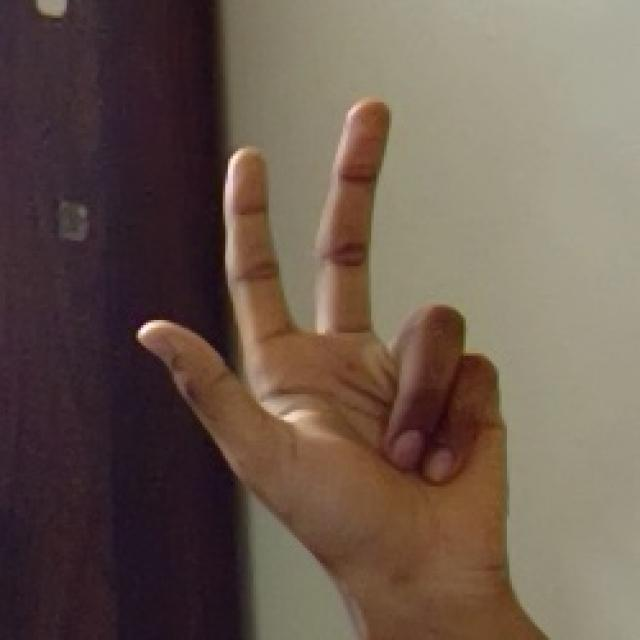Numeric-3: (130, 97, 510, 602)
